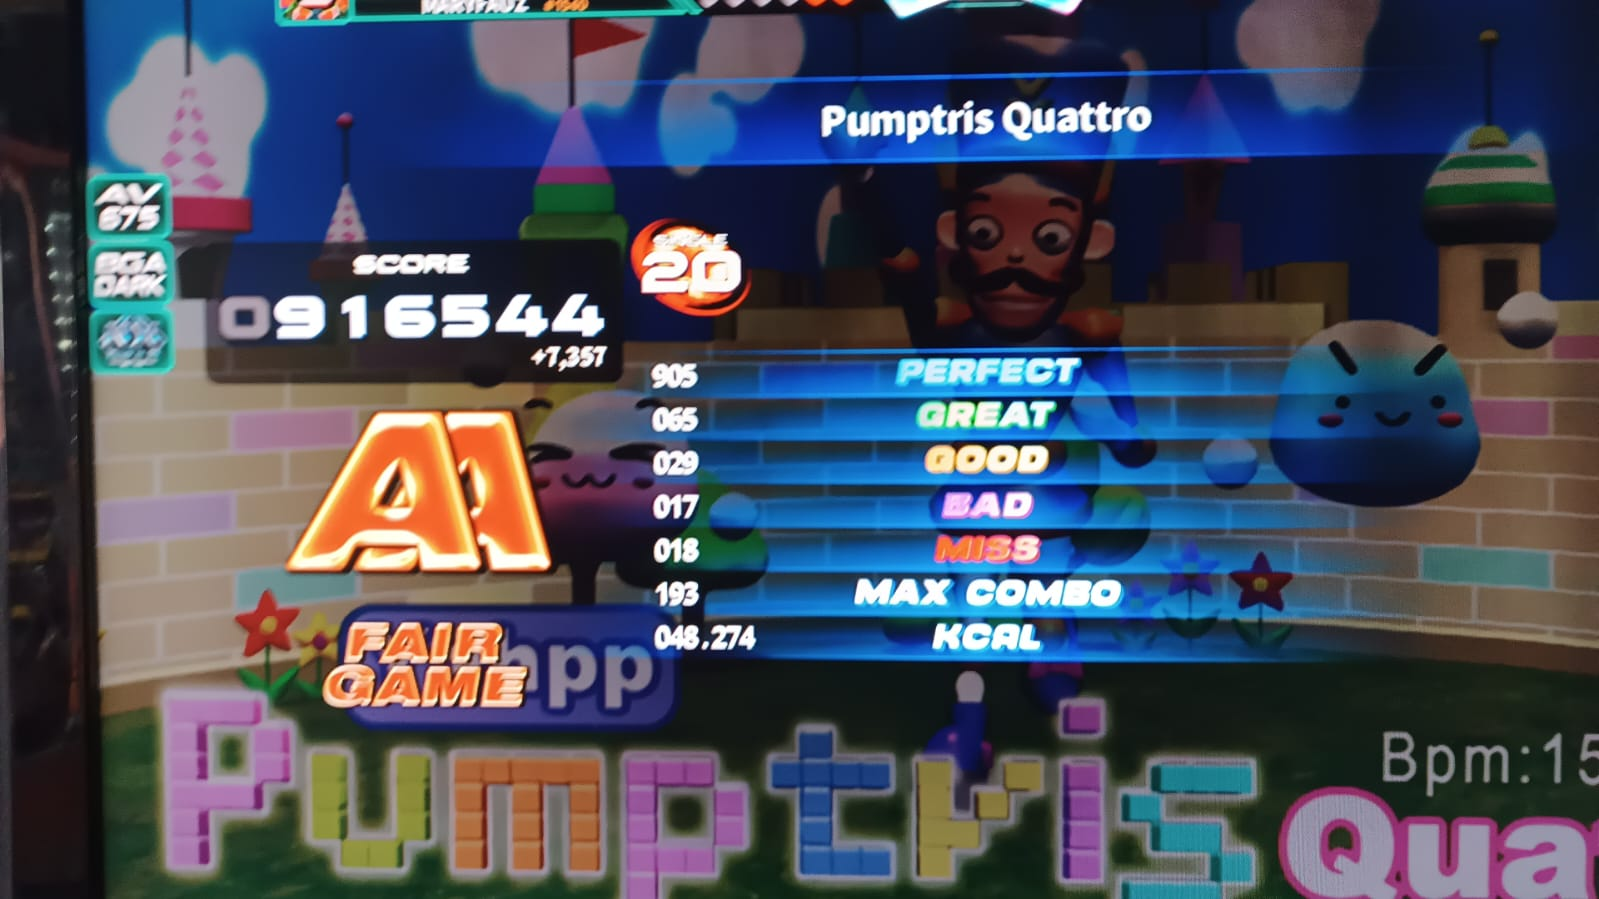difficulty: (635, 223, 737, 301), (724, 216, 736, 250)
fullscore: (0, 0, 1452, 889)
rank: (255, 404, 599, 588)
score: (201, 243, 628, 342)
song_name: (657, 71, 1389, 164)
